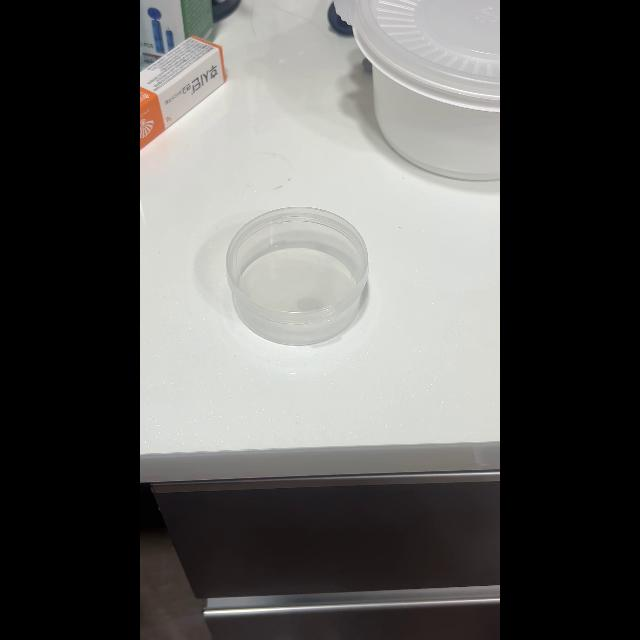clean: (216, 200, 378, 354)
